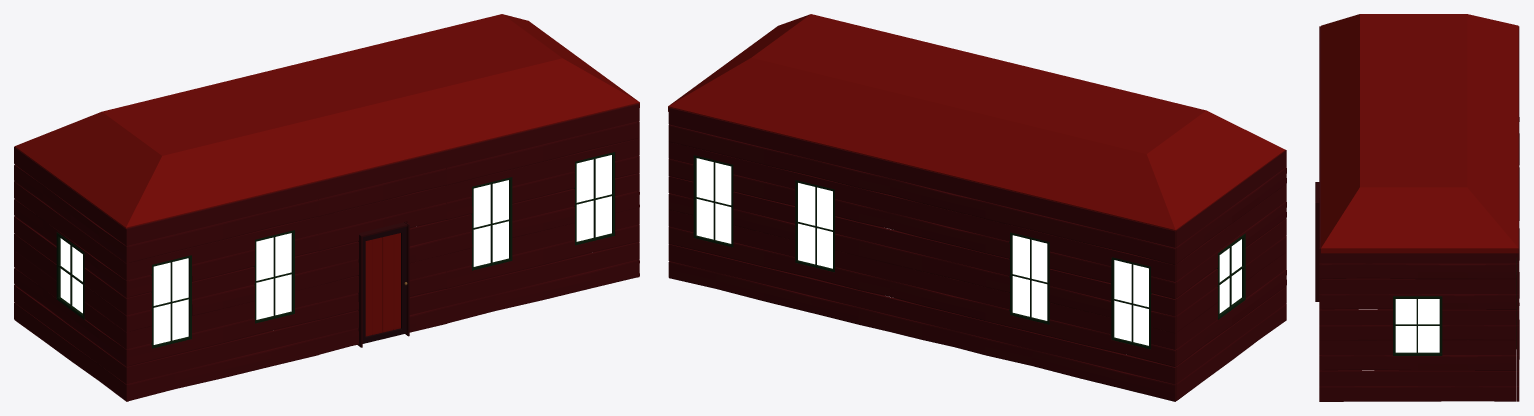
File: d2h_house4.fbx
3 views of the same model, side by side, from view 1: azimuth 30°, elevation 25°; view 2: azimuth 150°, elevation 25°; view 3: azimuth 270°, elevation 25° (orthographic). The views are drawn at different scales.
Parts seen in each view (by area): view 1: roof, front_wall_r, front_wall_r.001, walla.001, front_wall_mid, door_unit.001; view 2: roof, front_wall_r.004, front_wall_r.003, front_wall_mid.001, walla.001; view 3: roof, walla, front_wall_r.003, door_unit.001, front_wall_r, front_wall_r.004.
Boxes of the visible parts, x1=… form: roof: x1=14, y1=14, x2=639, y2=228; front_wall_r: x1=446, y1=103, x2=639, y2=323; front_wall_r.001: x1=125, y1=181, x2=319, y2=400; walla.001: x1=15, y1=148, x2=128, y2=401; front_wall_mid: x1=318, y1=150, x2=447, y2=354; door_unit.001: x1=358, y1=222, x2=409, y2=347; roof: x1=668, y1=14, x2=1285, y2=230; front_wall_r.004: x1=985, y1=185, x2=1176, y2=401; front_wall_r.003: x1=668, y1=107, x2=859, y2=324; front_wall_mid.001: x1=858, y1=154, x2=985, y2=354; walla.001: x1=1176, y1=150, x2=1286, y2=400; roof: x1=1321, y1=14, x2=1518, y2=253; walla: x1=1319, y1=248, x2=1516, y2=401; front_wall_r.003: x1=1516, y1=165, x2=1519, y2=401; door_unit.001: x1=1315, y1=182, x2=1319, y2=301; front_wall_r: x1=1319, y1=165, x2=1321, y2=401; front_wall_r.004: x1=1518, y1=26, x2=1519, y2=220.
Size of the model in its own units: 977 by 392 by 378.
